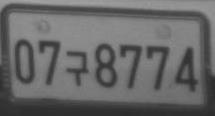0: (13, 38, 34, 84)
4: (175, 46, 199, 92)
7: (119, 43, 142, 88), (146, 45, 169, 90), (38, 39, 60, 86)
8: (94, 42, 117, 87)
구: (65, 50, 88, 87)
